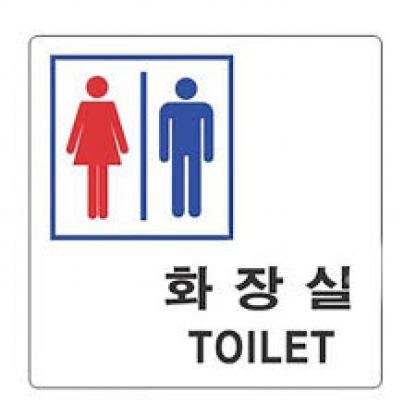toilet: (67, 66, 217, 226)
